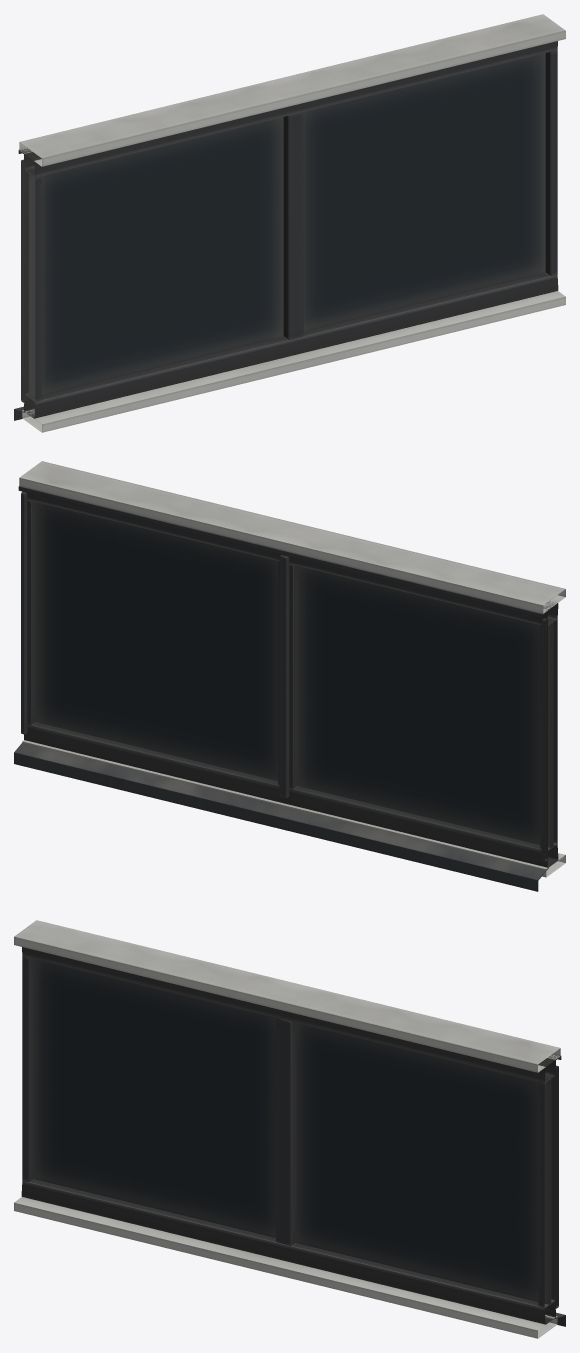
Rendered from Wall_Window.fbx.
The picture shows the model from 3 angles, top to bottom: view 1: azimuth 30°, elevation 25°; view 2: azimuth 150°, elevation 25°; view 3: azimuth 330°, elevation 25°; orthographic projection.
Parts seen in each view (by area): view 1: Wall_Window_LOD0; view 2: Wall_Window_LOD0; view 3: Wall_Window_LOD0.
Boxes of the visible parts, x1,y1,x2,y2 form: Wall_Window_LOD0: [14, 14, 565, 432]; Wall_Window_LOD0: [14, 461, 565, 891]; Wall_Window_LOD0: [14, 920, 565, 1338].
Bounding box in the file's own units: 2 × 1.03 × 0.185.
1 material, 1 textured.
